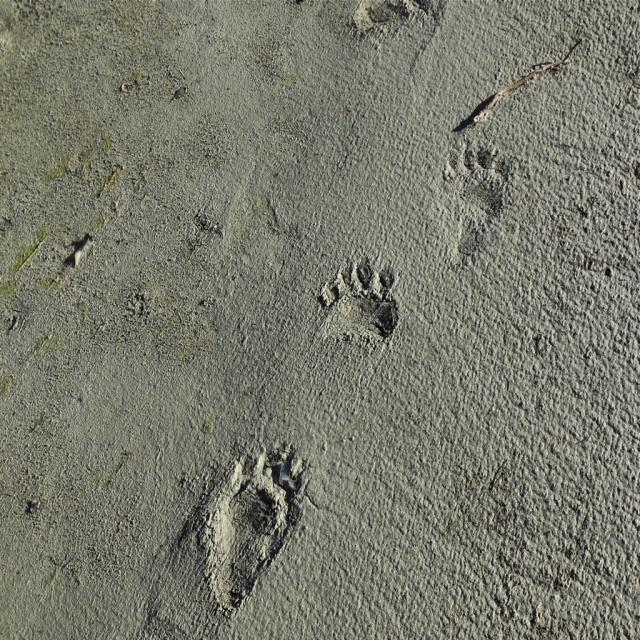bear: (210, 458, 304, 599), (317, 262, 400, 346), (441, 149, 503, 251)
